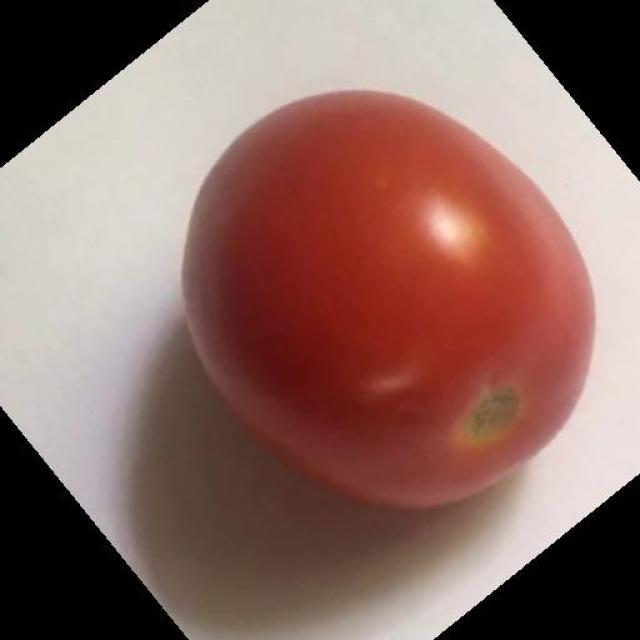Fresh Tomato: (150, 70, 614, 524)
